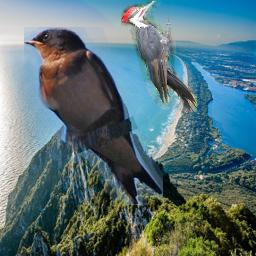Swallow: (24, 27, 163, 205)
Woodpecker: (121, 0, 197, 112)
